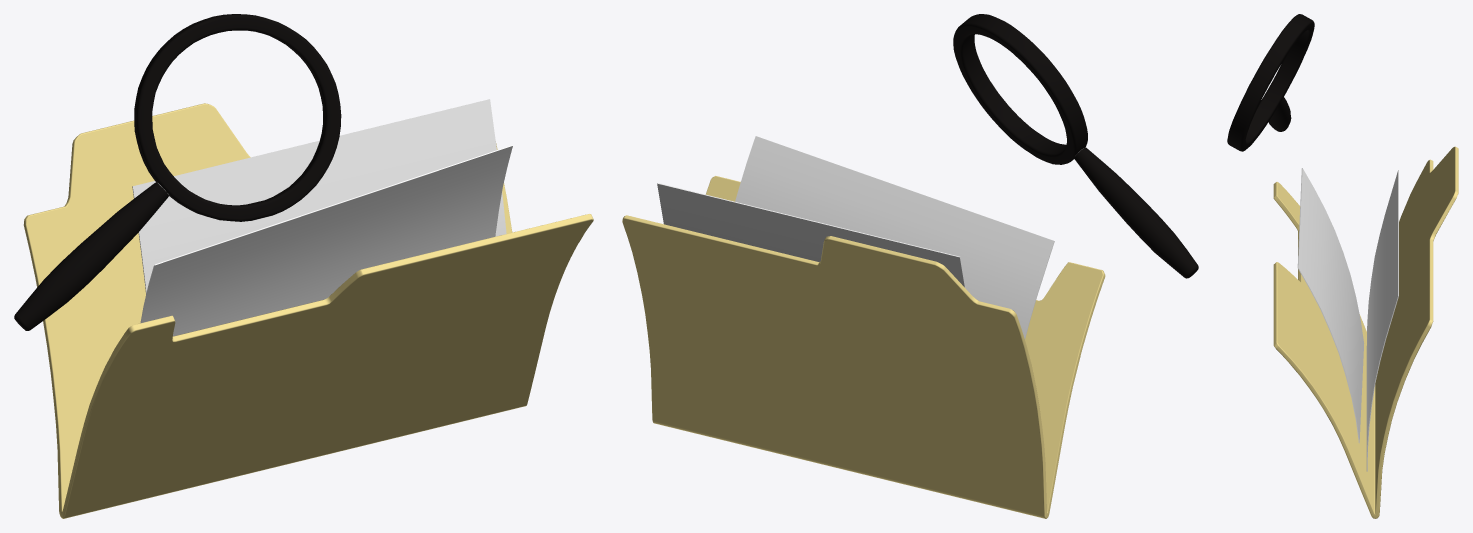
3 views of the same model, side by side, from view 1: azimuth 30°, elevation 25°; view 2: azimuth 150°, elevation 25°; view 3: azimuth 270°, elevation 25° (orthographic). The views are drawn at different scales.
Parts seen in each view (by area): view 1: Folder, Magnifying_Glass (1); view 2: Folder, Magnifying_Glass (1); view 3: Folder, Magnifying_Glass (1).
Boxes of the visible parts, left/top/right/bottom form: Folder: left=23, top=99, right=593, bottom=518; Magnifying_Glass (1): left=14, top=14, right=341, bottom=330; Folder: left=622, top=136, right=1105, bottom=518; Magnifying_Glass (1): left=953, top=14, right=1198, bottom=278; Folder: left=1273, top=146, right=1458, bottom=518; Magnifying_Glass (1): left=1227, top=14, right=1314, bottom=151.
Size of the model in its own units: 14.19 by 12.23 by 6.85.
Materials: 1 (1 with a texture image).
